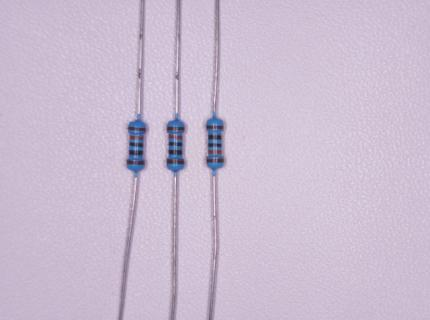Black band: (129, 142, 144, 147), (129, 150, 143, 155), (208, 135, 222, 140), (169, 142, 182, 147), (169, 150, 182, 155), (208, 143, 222, 147)
Brown band: (166, 159, 184, 164), (127, 160, 145, 165), (167, 126, 184, 131), (206, 125, 223, 130), (206, 159, 224, 163), (128, 127, 145, 131)
Orange band: (129, 135, 144, 141), (169, 135, 182, 140), (208, 150, 222, 154)
